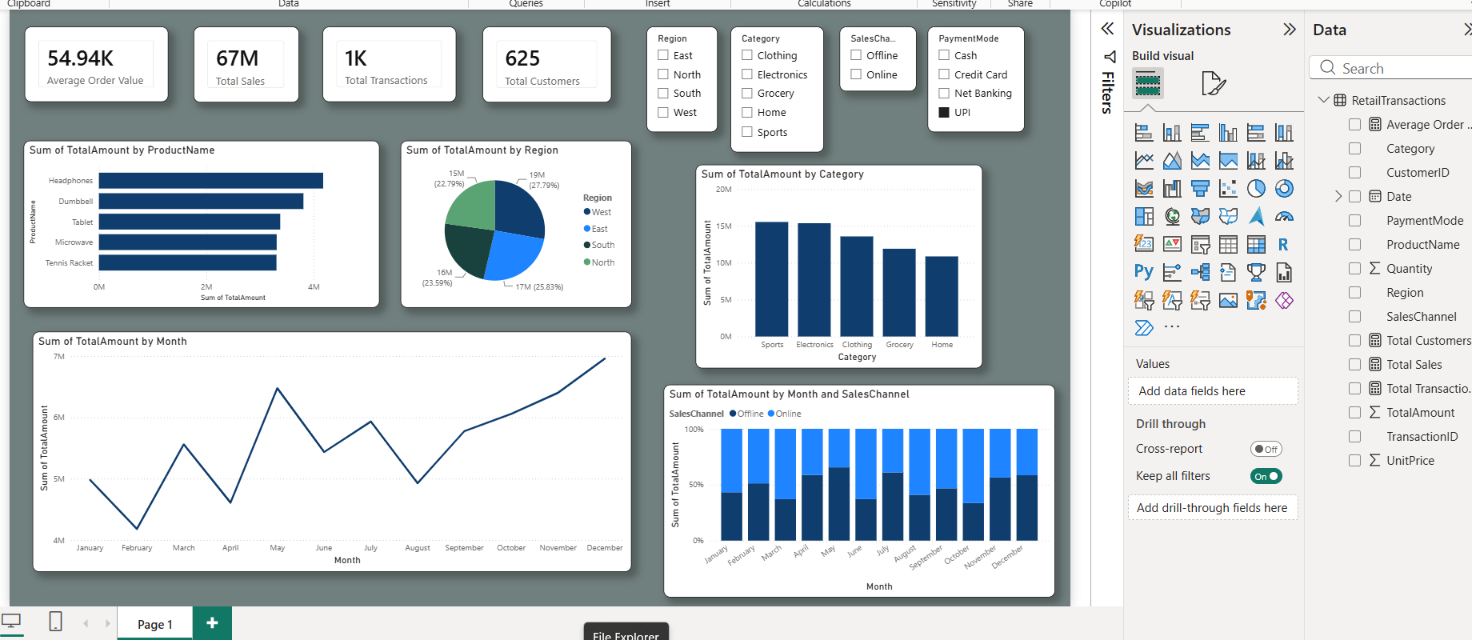

What the dashboard file says about the page in this screenshot:
{"tool":"powerbi","page":{"name":"Page 1","canvas":[1600,900],"ordinal":0},"visuals":[{"type":"cardVisual","fields":{"Data":["RetailTransactions.Total Sales"]},"box":[278.2,26,159,114.6],"z":0},{"type":"cardVisual","fields":{"Data":["RetailTransactions.Average Order Value"]},"box":[22,26.1,216.8,113.9],"z":1},{"type":"cardVisual","fields":{"Data":["RetailTransactions.Total Customers"]},"box":[713.8,26,194.1,114.6],"z":2},{"type":"cardVisual","fields":{"Data":["RetailTransactions.Total Transactions"]},"box":[472,26.1,201.7,113.9],"z":3},{"type":"clusteredBarChart","fields":{"Category":["RetailTransactions.ProductName"],"Y":["Sum(RetailTransactions.TotalAmount)"]},"box":[21.4,197.2,536.5,252.2],"z":4},{"type":"pieChart","fields":{"Y":["Sum(RetailTransactions.TotalAmount)"],"Category":["RetailTransactions.Region"]},"box":[590,197.2,348.5,252.2],"z":5},{"type":"lineChart","fields":{"Y":["Sum(RetailTransactions.TotalAmount)"],"Category":["RetailTransactions.Date.Variation.Date Hierarchy.Month"]},"box":[35.2,486.1,903.4,362.3],"z":6},{"type":"clusteredColumnChart","fields":{"Y":["Sum(RetailTransactions.TotalAmount)"],"Category":["RetailTransactions.Category"]},"box":[1034.8,233.9,432.6,307.2],"z":7},{"type":"slicer","fields":{"Values":["RetailTransactions.Region"]},"box":[959.9,26,107,159],"z":8},{"type":"slicer","fields":{"Values":["RetailTransactions.Category"]},"box":[1086.8,26,140.6,189.5],"z":9},{"type":"slicer","fields":{"Values":["RetailTransactions.SalesChannel"]},"box":[1251.9,26,116.2,97.8],"z":10},{"type":"slicer","fields":{"Values":["RetailTransactions.PaymentMode"]},"box":[1384.9,26,146.7,159],"z":11},{"type":"hundredPercentStackedColumnChart","fields":{"Y":["Sum(RetailTransactions.TotalAmount)"],"Category":["RetailTransactions.Date.Variation.Date Hierarchy.Month"],"Series":["RetailTransactions.SalesChannel"]},"box":[985.9,565.6,590,321],"z":12}]}

Visuals, with their boxes in screenshot pixels (x1, y1, x2, y2):
cardVisual - RetailTransactions.Total Sales: box=[181, 18, 288, 95]
cardVisual - RetailTransactions.Average Order Value: box=[7, 18, 154, 95]
cardVisual - RetailTransactions.Total Customers: box=[475, 18, 607, 95]
cardVisual - RetailTransactions.Total Transactions: box=[312, 18, 448, 95]
clusteredBarChart - RetailTransactions.ProductName x Sum(RetailTransactions.TotalAmount): box=[7, 133, 370, 304]
pieChart - Sum(RetailTransactions.TotalAmount) x RetailTransactions.Region: box=[392, 133, 627, 304]
lineChart - Sum(RetailTransactions.TotalAmount) x RetailTransactions.Date.Variation.Date Hierarchy.Month: box=[16, 329, 627, 574]
clusteredColumnChart - Sum(RetailTransactions.TotalAmount) x RetailTransactions.Category: box=[692, 158, 985, 366]
slicer - RetailTransactions.Region: box=[642, 18, 714, 125]
slicer - RetailTransactions.Category: box=[728, 18, 823, 146]
slicer - RetailTransactions.SalesChannel: box=[839, 18, 918, 84]
slicer - RetailTransactions.PaymentMode: box=[929, 18, 1029, 125]
hundredPercentStackedColumnChart - Sum(RetailTransactions.TotalAmount) x RetailTransactions.Date.Variation.Date Hierarchy.Month: box=[659, 383, 1059, 600]
